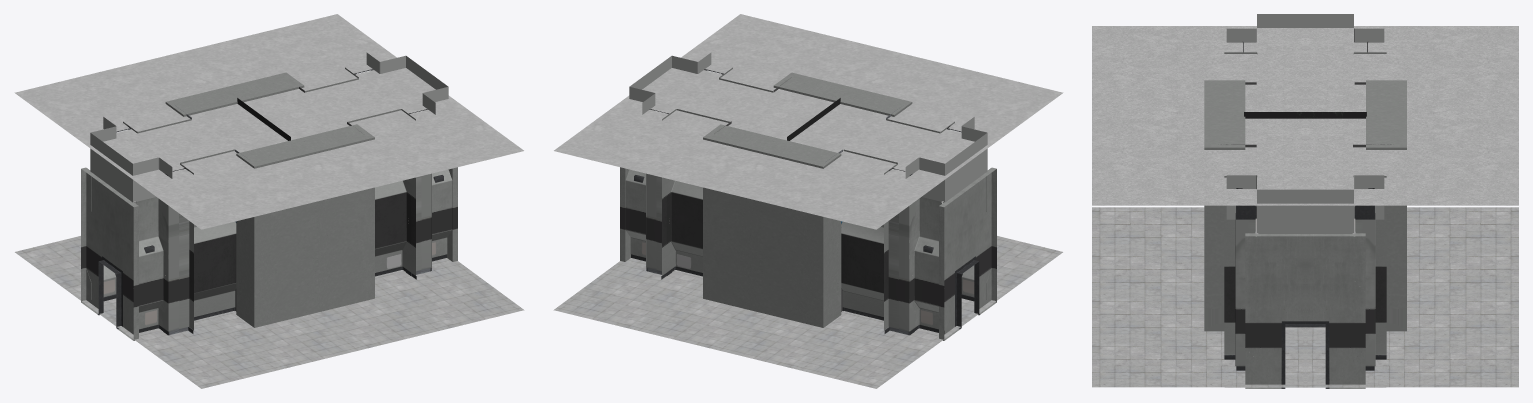
File: TeslaGate.fbx
3 views of the same model, side by side, from view 1: azimuth 30°, elevation 25°; view 2: azimuth 150°, elevation 25°; view 3: azimuth 270°, elevation 25° (orthographic). The views are drawn at different scales.
Visible parts, largest first — view 1: LCZ_Straight_Corridor_LOD0, Cube, Cube.005; view 2: LCZ_Straight_Corridor_LOD0, Cube.005, Cube; view 3: LCZ_Straight_Corridor_LOD0, Cube, Cube.005, Gate.
Boxes of the visible parts, <box> form: LCZ_Straight_Corridor_LOD0: <box>14,14,524,388</box>; Cube: <box>236,124,374,327</box>; Cube.005: <box>165,72,304,116</box>; LCZ_Straight_Corridor_LOD0: <box>553,14,1063,388</box>; Cube.005: <box>703,124,841,327</box>; Cube: <box>773,72,912,116</box>; LCZ_Straight_Corridor_LOD0: <box>1092,14,1518,388</box>; Cube: <box>1204,80,1245,331</box>; Cube.005: <box>1366,80,1406,331</box>; Gate: <box>1244,112,1366,118</box>.
Bounding box in the file's own units: 2087 × 1157 × 2087.
10 materials, 10 textured.
